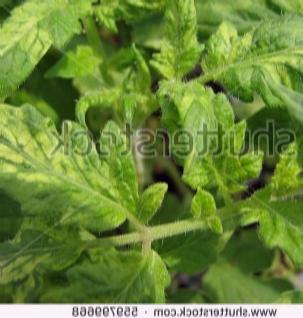Tomato leaf mosaic virus: (0, 97, 148, 229), (157, 79, 263, 204), (204, 2, 303, 110), (0, 0, 92, 110), (39, 248, 176, 302), (147, 0, 204, 92), (243, 190, 303, 268)
